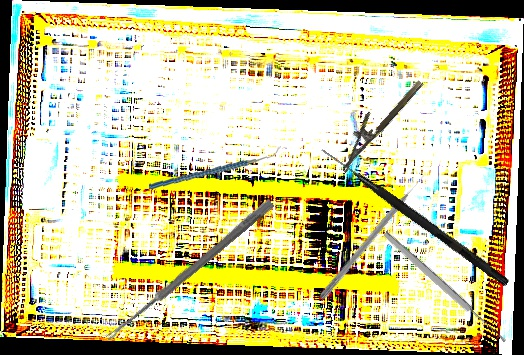Chopper: (148, 134, 282, 201)
Hook Surgical: (317, 146, 512, 287)
Needle Holder: (327, 69, 425, 173)
Pusher: (318, 173, 428, 302)
Surgical Spoon: (104, 197, 275, 344), (381, 229, 509, 346)
